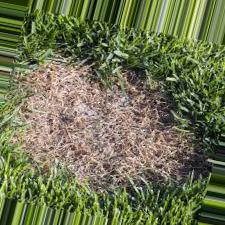patch: (35, 67, 161, 182)
